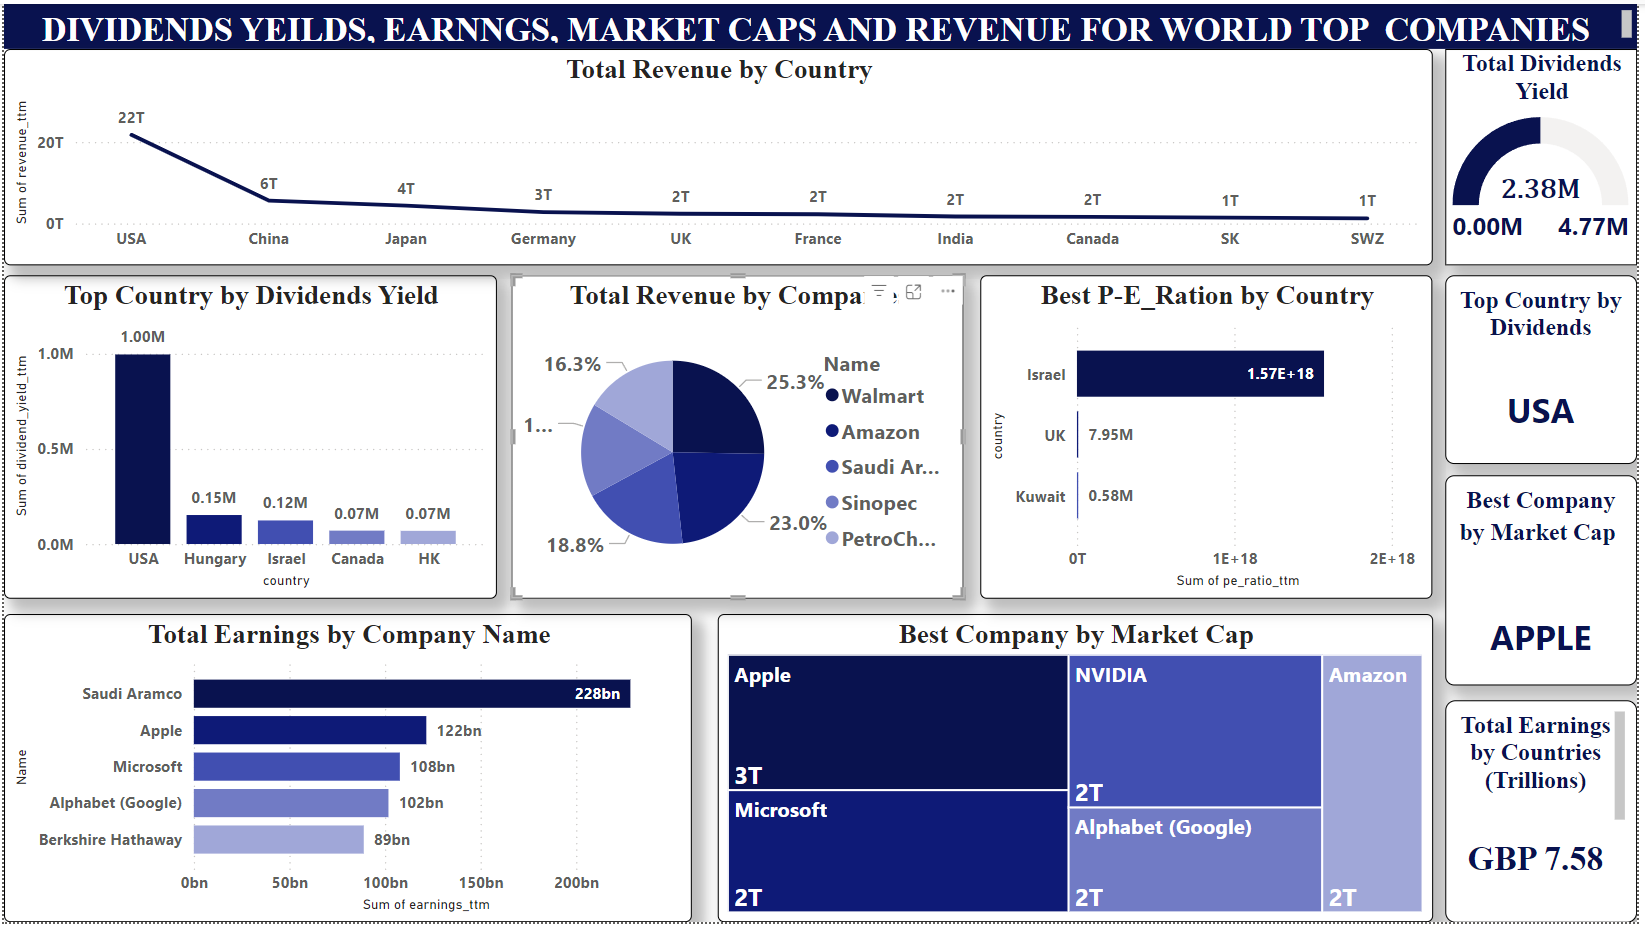

This screenshot's page, from the dashboard's own definition file:
{"tool":"powerbi","page":{"name":"Page 1","canvas":[1280,720],"ordinal":0},"visuals":[{"type":"textbox","box":[0,0,1280.7,35.3],"z":0},{"type":"barChart","title":"Total Earnings by Company Name","fields":{"Y":["Sum(Companies_ranked_by_Earnings.earnings_ttm)"],"Category":["Companies_ranked_by_Earnings.Name"]},"box":[0,477.9,539.5,241.9],"z":1000},{"type":"columnChart","title":"Top Country by Dividends Yield","fields":{"Category":["Companies_ranked_by_Dividend_Yi.country"],"Y":["Sum(Companies_ranked_by_Dividend_Yi.dividend_yield_ttm)"]},"box":[0,212.8,386,253.5],"z":2000},{"type":"treemap","title":"Best Company by Market Cap","fields":{"Values":["Sum(Companies_ranked_by_Market_Cap.marketcap)"],"Group":["Companies_ranked_by_Market_Cap.Name"]},"box":[559.3,477.9,560.5,241.9],"z":3000},{"type":"lineChart","title":"Total Revenue by Country ","fields":{"Y":["Sum(Companies_ranked_by_Revenue.revenue_ttm)"],"Category":["Companies_ranked_by_Revenue.country"]},"box":[0,34.9,1119.8,169.8],"z":4000},{"type":"pieChart","title":"Total Revenue by Companies","fields":{"Category":["Companies_ranked_by_Revenue.Name"],"Y":["Sum(Companies_ranked_by_Revenue.revenue_ttm)"]},"box":[397.7,212.8,354.7,253.5],"z":5000},{"type":"barChart","title":"Best P-E_Ration by Country","fields":{"Y":["Sum(Companies_ranked_by_P_E_ratio.pe_ratio_ttm)"],"Category":["Companies_ranked_by_P_E_ratio.country"]},"box":[765.1,212.8,354.7,253.5],"z":6000},{"type":"gauge","title":"Total Dividends Yield","fields":{"Y":["Sum(Companies_ranked_by_Dividend_Yi.dividend_yield_ttm)"]},"box":[1130.2,34.9,150,169.8],"z":7000},{"type":"textbox","box":[1130.2,212.8,150,147.7],"z":8000},{"type":"textbox","box":[1130.2,369.8,150,165.1],"z":9000},{"type":"textbox","box":[1130.2,545.4,150,174.4],"z":10000}]}

Visuals, with their boxes in screenshot pixels (x1, y1, x2, y2), scaled from the page's 1280x720 canvas onto the 1645x929 screenshot:
textbox: <region>0, 0, 1644, 46</region>
"Total Earnings by Company Name" barChart: <region>0, 617, 693, 928</region>
"Top Country by Dividends Yield" columnChart: <region>0, 275, 496, 602</region>
"Best Company by Market Cap" treemap: <region>719, 617, 1439, 928</region>
"Total Revenue by Country " lineChart: <region>0, 45, 1439, 264</region>
"Total Revenue by Companies" pieChart: <region>511, 275, 967, 602</region>
"Best P-E_Ration by Country" barChart: <region>983, 275, 1439, 602</region>
"Total Dividends Yield" gauge: <region>1452, 45, 1644, 264</region>
textbox: <region>1452, 275, 1644, 465</region>
textbox: <region>1452, 477, 1644, 690</region>
textbox: <region>1452, 704, 1644, 928</region>
